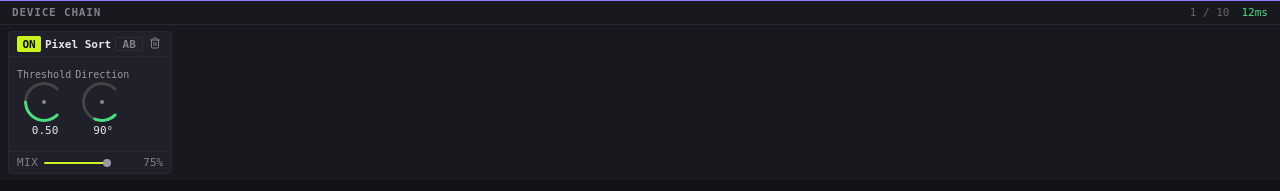
Scenario: DeviceChain › Automate context menu (LIVE-M2 #435) › shows "Automate" on right-click of a param knob, without also opening the device-level menu
Right-click the element with test id "param-knob-fx-1-threshold" at (44, 104), box [17,63,71,145]
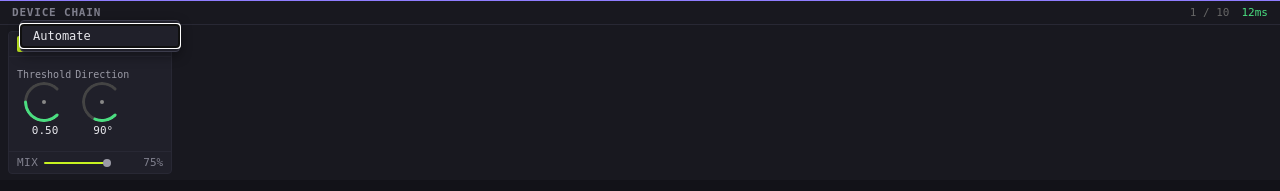
Expected: the text "Automate" is shown, [21,25,179,47]
